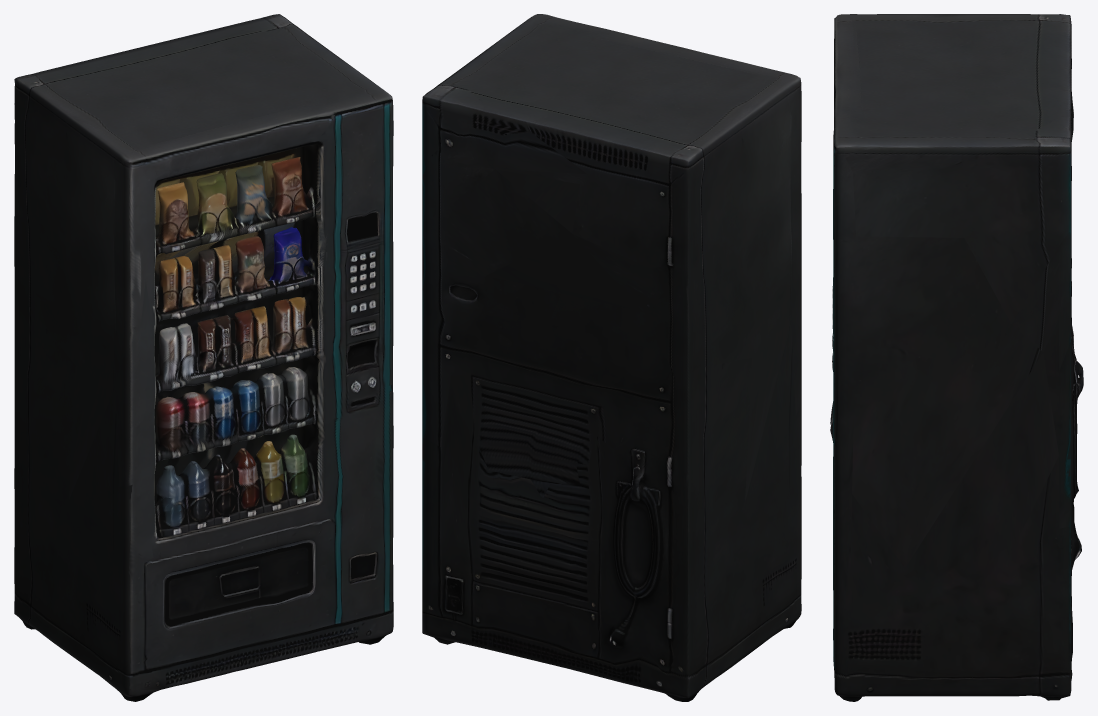
Rendered from ENV_Vending_machine_v001.fbx.
3 views of the same model, side by side, from view 1: azimuth 30°, elevation 25°; view 2: azimuth 150°, elevation 25°; view 3: azimuth 270°, elevation 25° (orthographic). The views are drawn at different scales.
Visible parts, largest first — view 1: model_LOD1; view 2: model_LOD1; view 3: model_LOD1.
Part boxes in pixels (bbox=[...]): model_LOD1: bbox=[14, 14, 393, 701]; model_LOD1: bbox=[422, 14, 801, 701]; model_LOD1: bbox=[830, 14, 1083, 701].
Bounding box in the file's own units: 97.08 × 190 × 77.61.
Materials: 1 (1 with a texture image).
